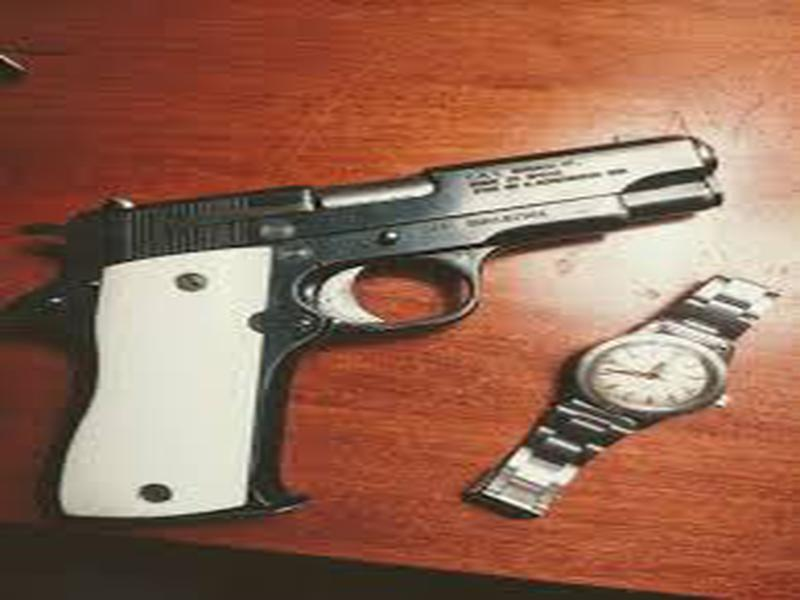gun: (7, 135, 774, 517)
